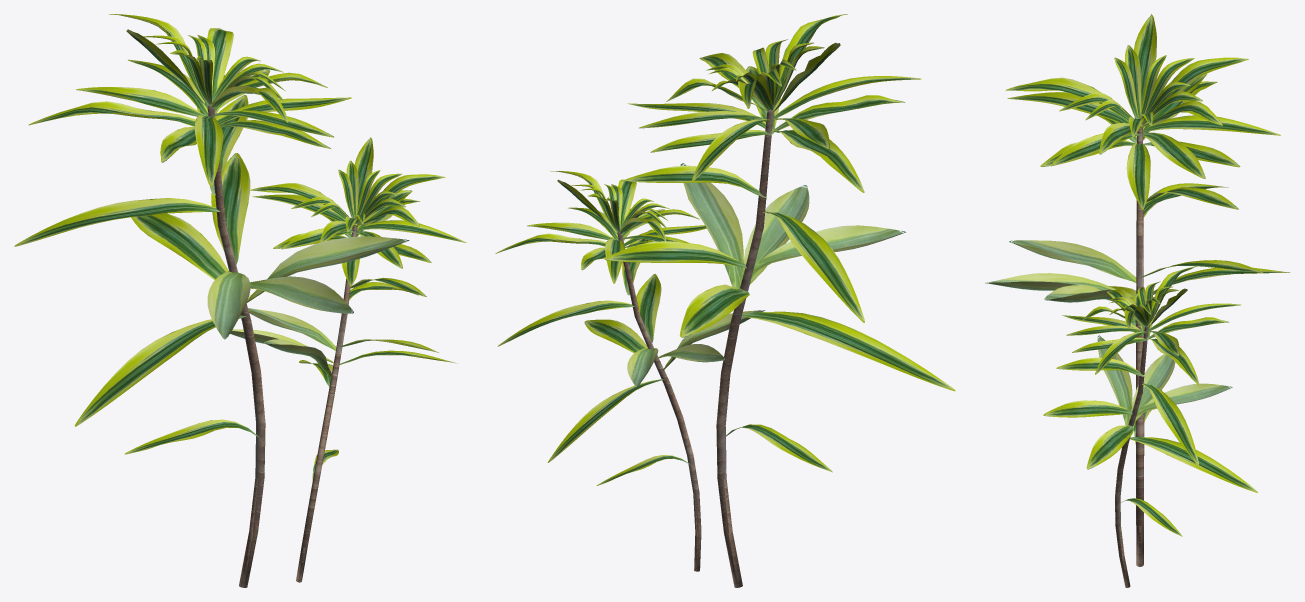
File: dracaena reflexa.fbx
3 views of the same model, side by side, from view 1: azimuth 30°, elevation 25°; view 2: azimuth 150°, elevation 25°; view 3: azimuth 270°, elevation 25° (orthographic). The views are drawn at different scales.
Parts seen in each view (by area): view 1: dracaena reflexa; view 2: dracaena reflexa; view 3: dracaena reflexa.
Boxes of the visible parts, x1=… form: dracaena reflexa: x1=14, y1=14, x2=466, y2=587; dracaena reflexa: x1=495, y1=14, x2=955, y2=587; dracaena reflexa: x1=985, y1=14, x2=1290, y2=587.
Bounding box in the file's own units: 158 × 216 × 119.
Materials: 4 (4 with a texture image).
